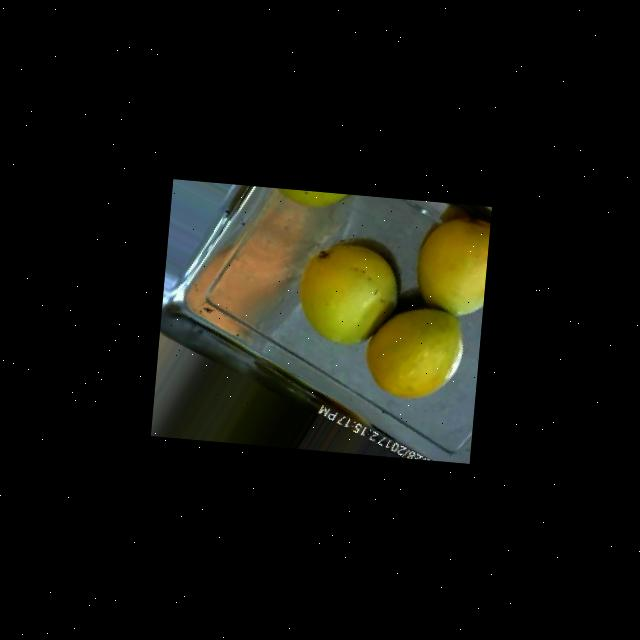Mango: (294, 238, 402, 348), (362, 302, 466, 402), (412, 211, 490, 318)
